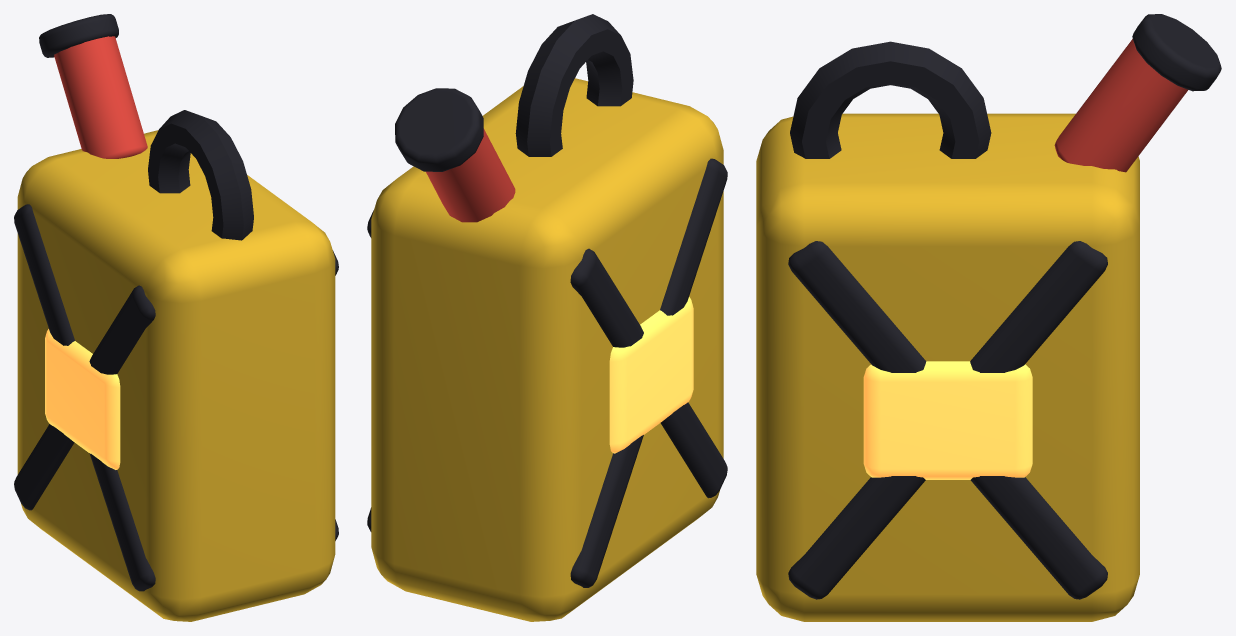
Rendered from gas_can.glb.
3 renders of one model, left to right at view 1: azimuth 30°, elevation 25°; view 2: azimuth 150°, elevation 25°; view 3: azimuth 270°, elevation 25°, orthographic. The views are drawn at different scales.
Visible parts, largest first — view 1: gas_can; view 2: gas_can; view 3: gas_can.
Part boxes in pixels (x1,y1,x2,y2): gas_can: (14,14,338,621); gas_can: (367,14,727,621); gas_can: (756,14,1221,621).
Bounding box in the file's own units: 0.285 × 0.6498 × 0.485.
1 material, 1 textured.
